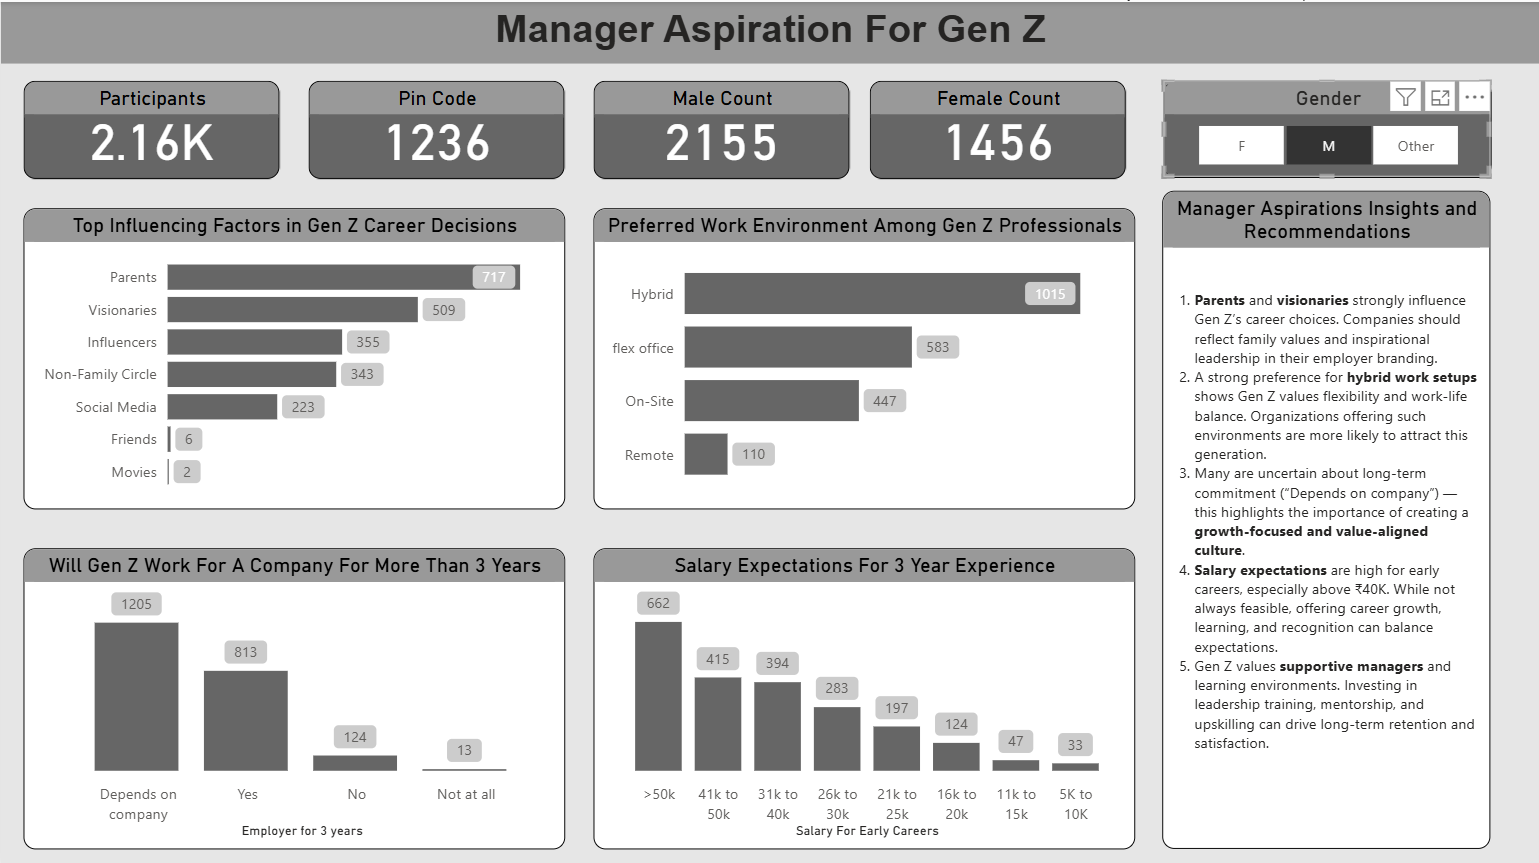

This screenshot's page, from the dashboard's own definition file:
{"tool":"powerbi","page":{"name":"Page 1","canvas":[1280,720],"ordinal":0},"visuals":[{"type":"card","title":"Participants","fields":{"Values":["Data.TotalParticipants"]},"box":[19,65.2,213.2,81.5],"z":0},{"type":"card","title":"Pin Code","fields":{"Values":["Count(Data.Pin Code)"]},"box":[255.2,65.2,213.2,81.5],"z":1000},{"type":"card","title":"Male Count","fields":{"Values":["Data.MaleCount"]},"box":[492.8,65.2,213.2,81.5],"z":2000},{"type":"card","title":"Female Count","fields":{"Values":["Data.FemaleCount"]},"box":[722.3,65.2,213.2,81.5],"z":3000},{"type":"slicer","title":"Gender","fields":{"Values":["Data.Gender"]},"box":[966,65,273,81],"z":4000},{"type":"textbox","box":[0,0,1280,51.1],"z":5000},{"type":"clusteredBarChart","title":"Top Influencing Factors in Gen Z Career Decisions","fields":{"Category":["Data.Influence Factors"],"Y":["CountNonNull(Data.Influence Factors)"]},"box":[18.6,171.4,450,250],"z":6000},{"type":"clusteredBarChart","title":"Preferred Work Environment Among Gen Z Professionals","fields":{"Category":["Data.Working Environment"],"Y":["CountNonNull(Data.Working Environment)"]},"box":[492.9,171.4,450,250],"z":7000},{"type":"columnChart","title":"Will Gen Z Work For A Company For More Than 3 Years","fields":{"Category":["Data.Employer for 3 years"],"Y":["CountNonNull(Data.Employer for 3 years)"]},"box":[18.6,454.3,450,250],"z":8000},{"type":"clusteredColumnChart","title":"Salary Expectations  For 3 Year Experience","fields":{"Category":["Data.Salary For Early Careers"],"Y":["CountNonNull(Data.Salary For Early Careers)"]},"box":[493,454,450,250],"z":9000},{"type":"textbox","title":"Manager Aspirations Insights and Recommendations","box":[965.7,157.1,272.9,547.1],"z":10000}]}

Visuals, with their boxes in screenshot pixels (x1, y1, x2, y2), scaled from the page's 1280x720 canvas onto the 1539x863 screenshot:
"Participants" card: 23:78:279:176
"Pin Code" card: 307:78:563:176
"Male Count" card: 593:78:849:176
"Female Count" card: 868:78:1125:176
"Gender" slicer: 1161:78:1490:175
textbox: 0:0:1538:61
"Top Influencing Factors in Gen Z Career Decisions" clusteredBarChart: 22:205:563:505
"Preferred Work Environment Among Gen Z Professionals" clusteredBarChart: 593:205:1134:505
"Will Gen Z Work For A Company For More Than 3 Years" columnChart: 22:545:563:844
"Salary Expectations  For 3 Year Experience" clusteredColumnChart: 593:544:1134:844
"Manager Aspirations Insights and Recommendations" textbox: 1161:188:1489:844
